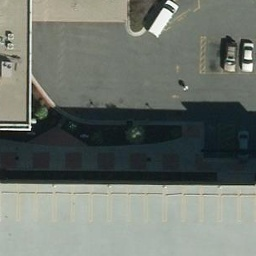car: (146, 1, 180, 38), (221, 41, 240, 71), (237, 41, 256, 71)
